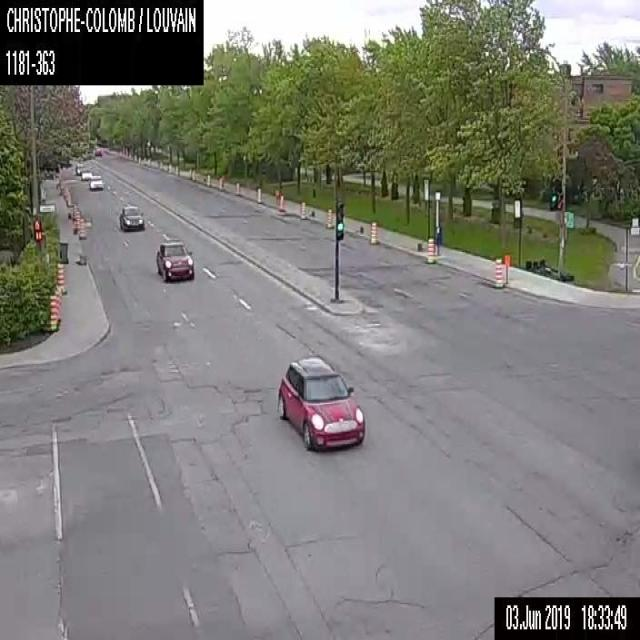construction: (492, 255, 504, 288), (50, 293, 59, 331), (57, 261, 67, 294), (425, 238, 436, 263), (368, 220, 379, 244), (79, 215, 87, 239), (56, 284, 61, 321), (54, 290, 59, 326), (326, 206, 334, 228), (504, 254, 510, 282), (74, 209, 80, 232), (299, 200, 306, 219), (278, 194, 284, 210), (256, 186, 261, 202), (235, 180, 239, 194), (191, 168, 195, 182), (206, 172, 210, 186), (174, 162, 178, 175), (188, 166, 192, 179), (218, 177, 222, 190)
vehicle: (276, 355, 364, 453), (154, 240, 193, 283), (118, 204, 145, 232), (89, 174, 103, 189), (74, 162, 84, 175), (81, 169, 93, 178), (94, 148, 102, 156)
